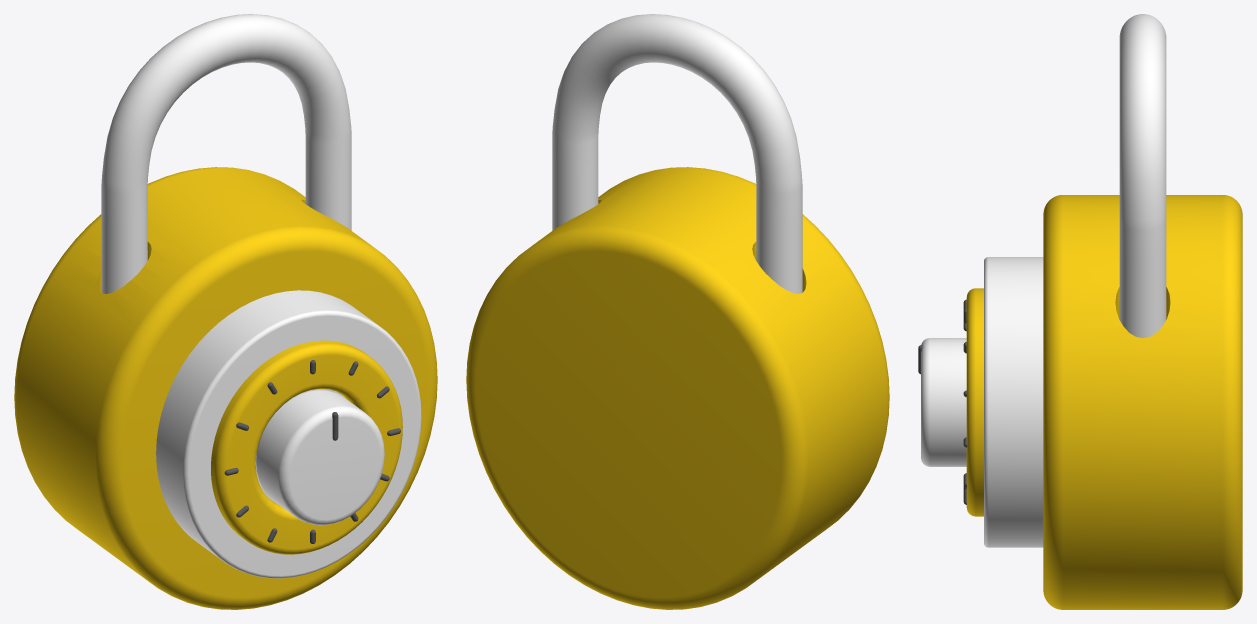
File: lock.glb
3 renders of one model, left to right at view 1: azimuth 30°, elevation 25°; view 2: azimuth 150°, elevation 25°; view 3: azimuth 270°, elevation 25°, orthographic.
Parts seen in each view (by area): view 1: Cylinder & Cylinder 1 - baked 1, Cylinder, Cylinder 1 - baked, Cylinder 2 & Cylinder 1, Cylinder 3; view 2: Cylinder & Cylinder 1 - baked 1, Cylinder 1 - baked; view 3: Cylinder & Cylinder 1 - baked 1, Cylinder, Cylinder 1 - baked, Cylinder 3, Cylinder 2 & Cylinder 1.
Boxes of the visible parts, box(x1,y1,x2,y2) form: Cylinder & Cylinder 1 - baked 1: box(14, 167, 437, 609); Cylinder: box(156, 290, 421, 578); Cylinder 1 - baked: box(101, 14, 351, 293); Cylinder 2 & Cylinder 1: box(211, 340, 402, 554); Cylinder 3: box(256, 389, 384, 525); Cylinder & Cylinder 1 - baked 1: box(466, 167, 889, 609); Cylinder 1 - baked: box(552, 14, 802, 293); Cylinder & Cylinder 1 - baked 1: box(1043, 195, 1242, 609); Cylinder: box(984, 257, 1043, 547); Cylinder 1 - baked: box(1119, 14, 1166, 337); Cylinder 3: box(921, 338, 966, 466); Cylinder 2 & Cylinder 1: box(966, 288, 983, 516).
Size of what is drawn, in the model's own units: 0.2094 by 0.3277 by 0.1704.
